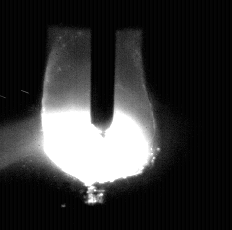arame: (91, 0, 116, 137)
poca: (43, 0, 155, 230)
